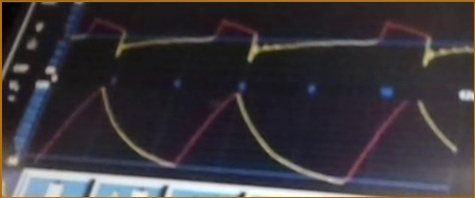Accumulation Flow: (71, 12, 471, 68)
Volume: (33, 88, 455, 186)
